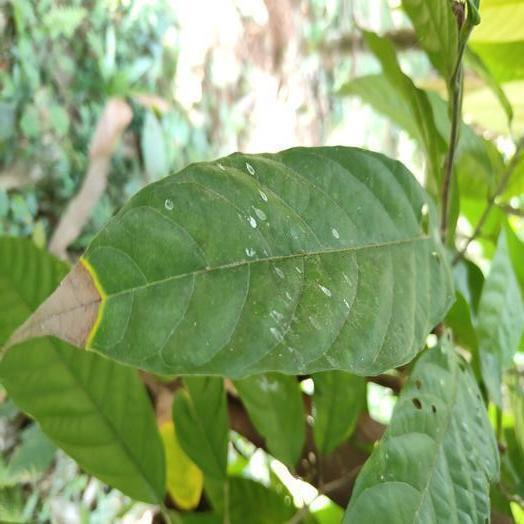Potassium: (15, 147, 453, 377)
